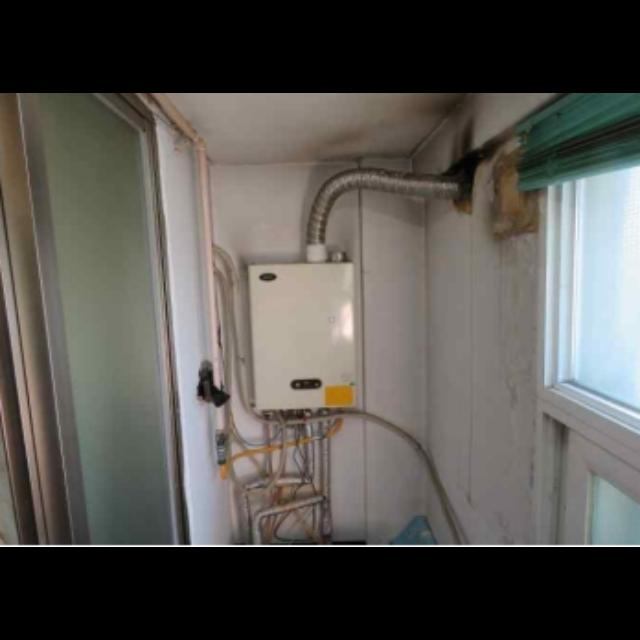Boiler: (215, 235, 375, 422)
